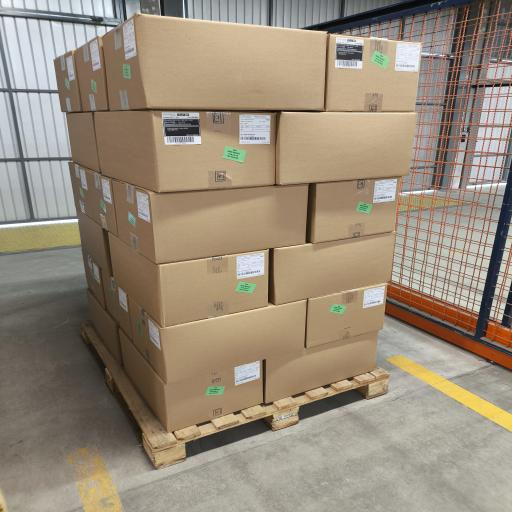pallet: (80, 322, 388, 468)
